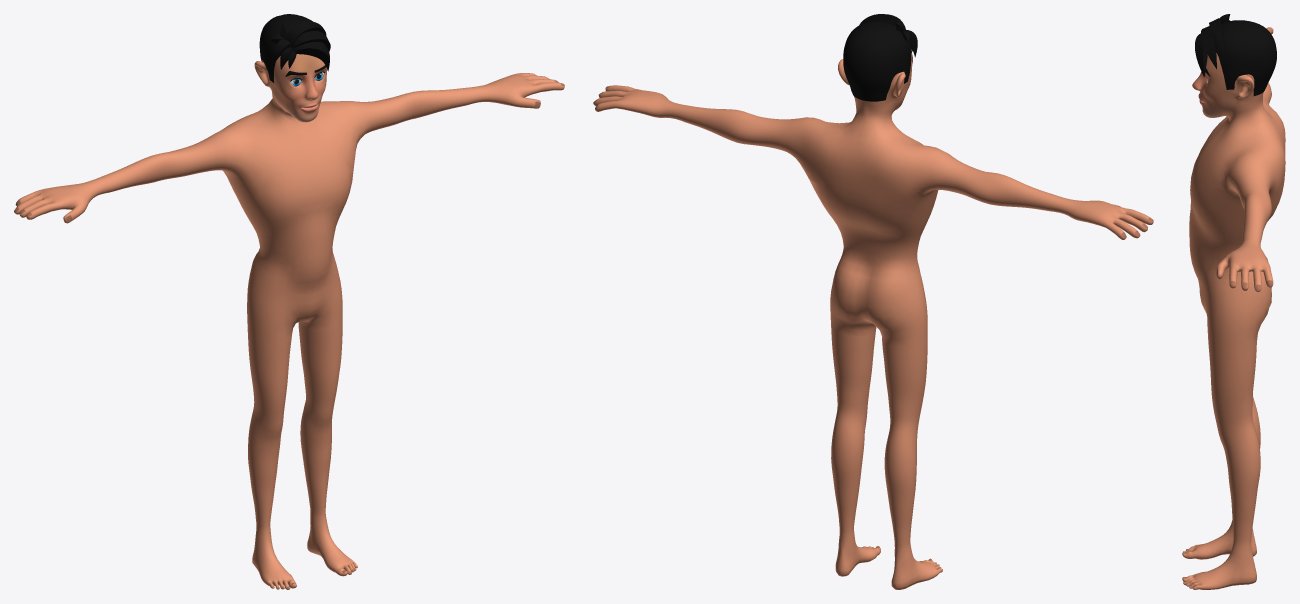
Rendered from BaseMesh_M_1.obj.
3 renders of one model, left to right at view 1: azimuth 30°, elevation 25°; view 2: azimuth 150°, elevation 25°; view 3: azimuth 270°, elevation 25°, orthographic.
Parts seen in each view (by area): view 1: Body_Vucud.001, Hair_NurbsPath.009; view 2: Body_Vucud.001, Hair_NurbsPath.009; view 3: Body_Vucud.001, Hair_NurbsPath.009.
Boxes of the visible parts, x1,y1,x2,y2 form: Body_Vucud.001: (14, 54, 564, 589); Hair_NurbsPath.009: (259, 14, 330, 82); Body_Vucud.001: (593, 52, 1153, 589); Hair_NurbsPath.009: (843, 14, 917, 101); Body_Vucud.001: (1182, 27, 1285, 589); Hair_NurbsPath.009: (1195, 14, 1276, 96).
Size of the model in its own units: 7.98 by 7.75 by 1.32.
Materials: 3 (3 with a texture image).
